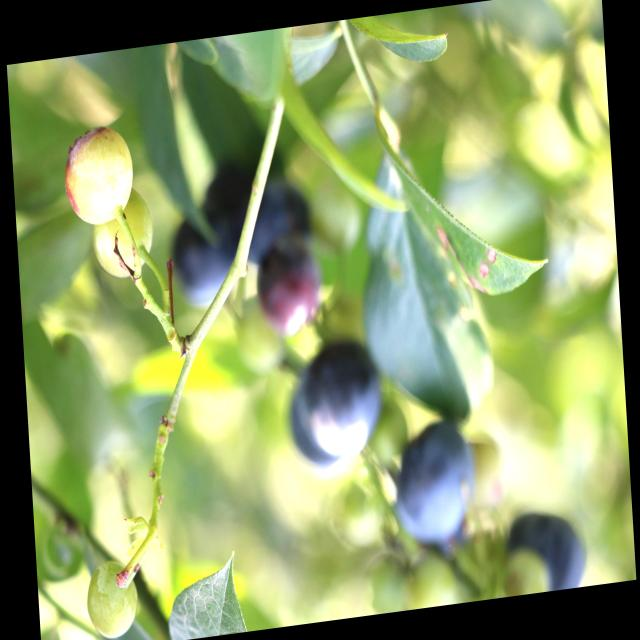blueberry: (297, 332, 387, 464), (391, 421, 479, 552), (209, 165, 289, 264), (260, 245, 324, 337), (168, 218, 234, 306)
blueberry-unripe: (60, 122, 139, 234), (87, 185, 158, 288)
